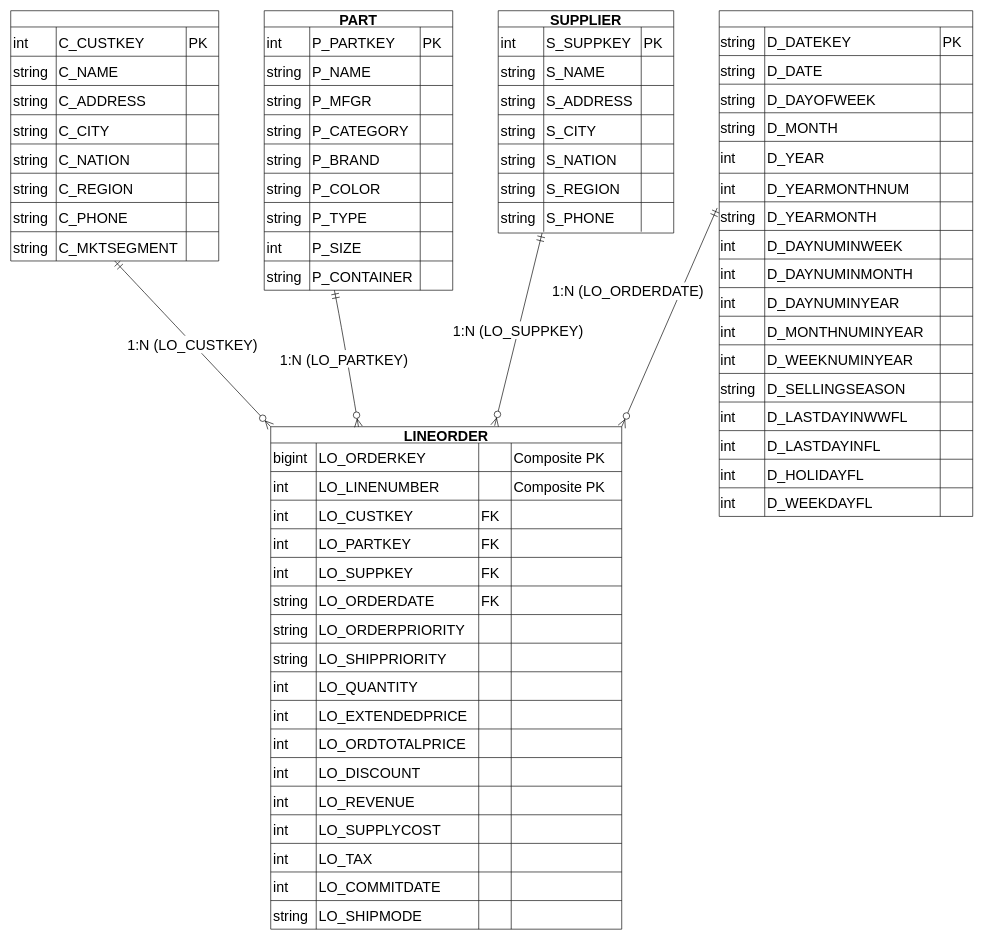
Some shapes in this 983 by 940 pixel diagram are drawn without their labels. The shapes that lost their labels are listed below. From the top down, each one's box as (x1, y1, x2, y2) in pixels, then its label:
(10, 10, 219, 261): CUSTOMER
(719, 10, 973, 516): DWDATE
